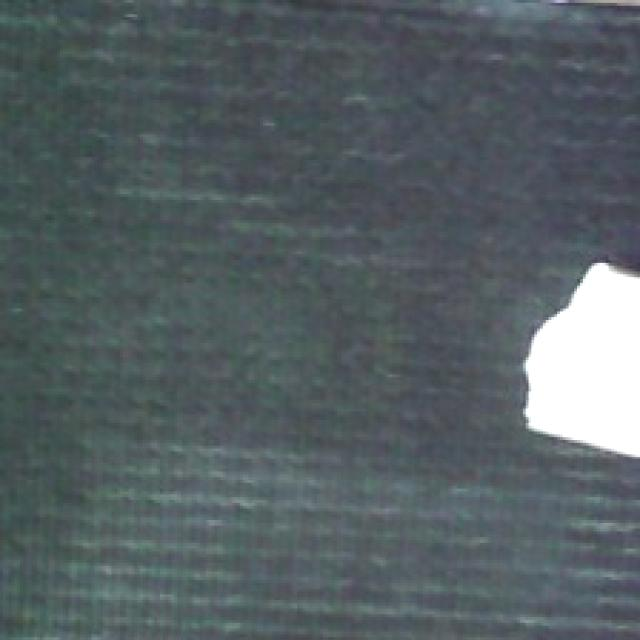defected: (517, 254, 640, 459)
